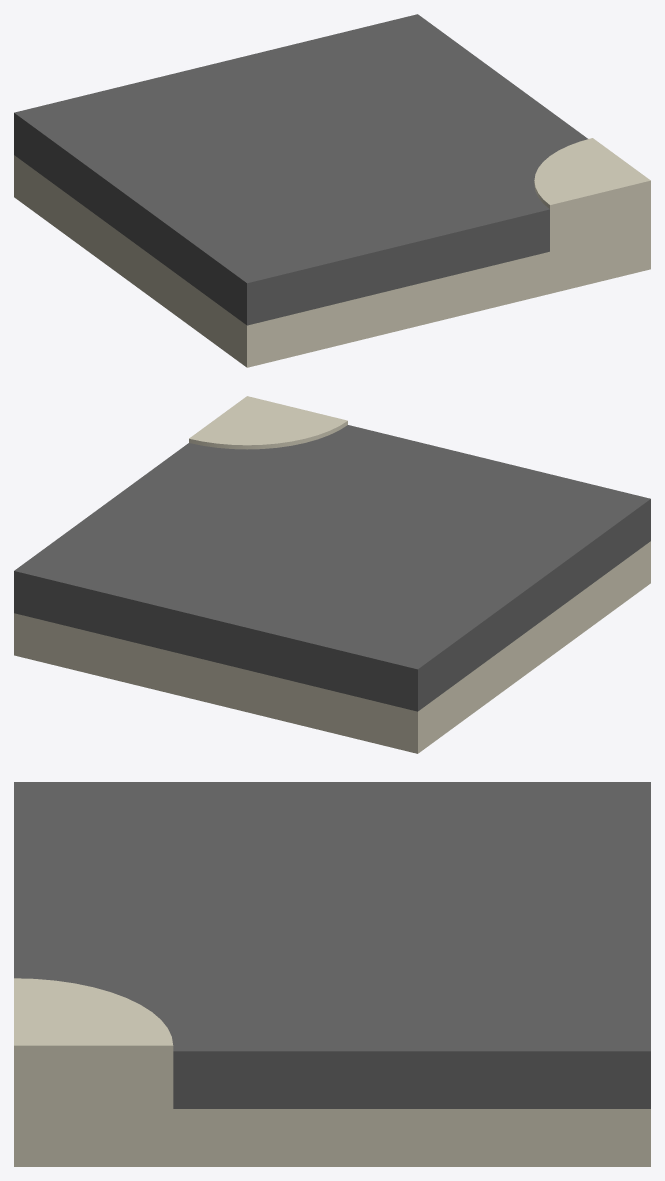
File: tile228.fbx
3 renders of one model, top to bottom at view 1: azimuth 30°, elevation 25°; view 2: azimuth 150°, elevation 25°; view 3: azimuth 270°, elevation 25°, orthographic. The views are drawn at different scales.
Parts seen in each view (by area): view 1: tile228; view 2: tile228; view 3: tile228.
Boxes of the visible parts, x1,y1,x2,y2 form: tile228: (14, 14, 650, 367); tile228: (14, 396, 650, 753); tile228: (14, 782, 650, 1166).
Bounding box in the file's own units: 10 × 2.1 × 10.
